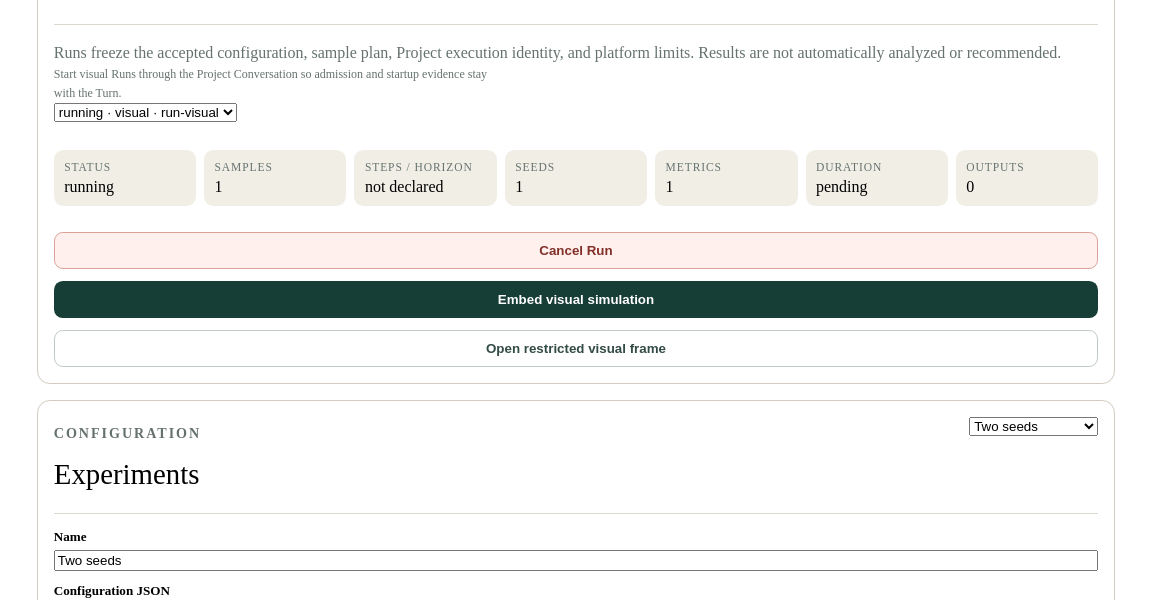
Test: dynamic Project workspace › hands the development proxy off to the exact restricted visual host
(page scrolled)
Click the button "Open restricted visual frame" at [576, 348], box x1=54 y1=330 x2=1098 y2=367
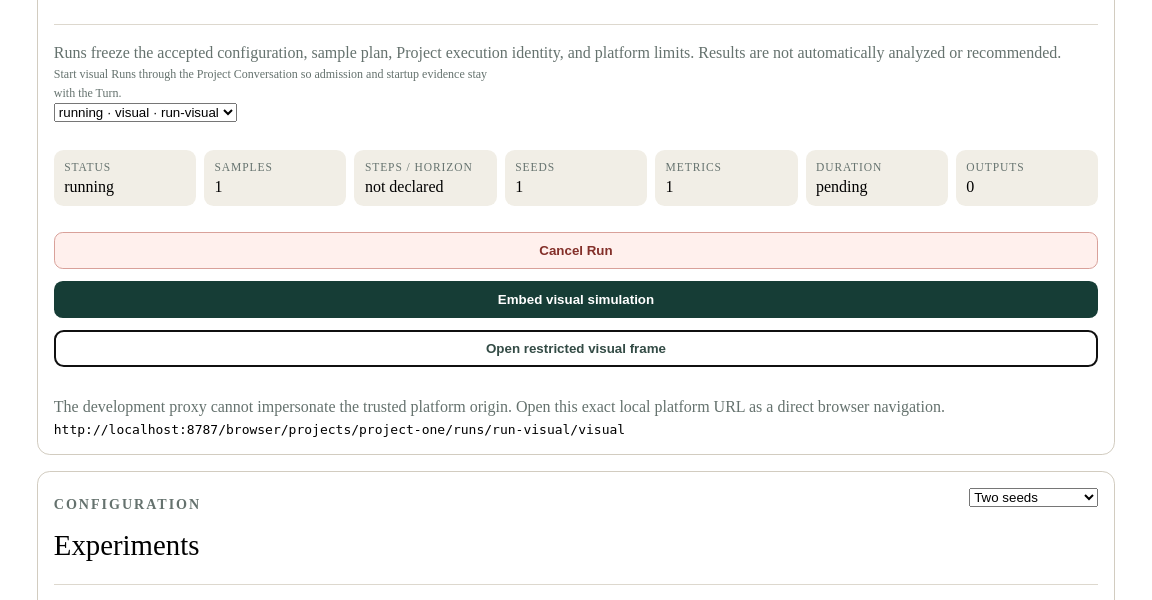
Check: the text with test id "visual-host-url" reads "http://localhost:8787/browser/projects/project-one/runs/run-visual/visual", box x1=54 y1=422 x2=625 y2=436
Check: the text "development proxy cannot impersonate the trusted platform origin" is shown, box x1=54 y1=398 x2=945 y2=415
